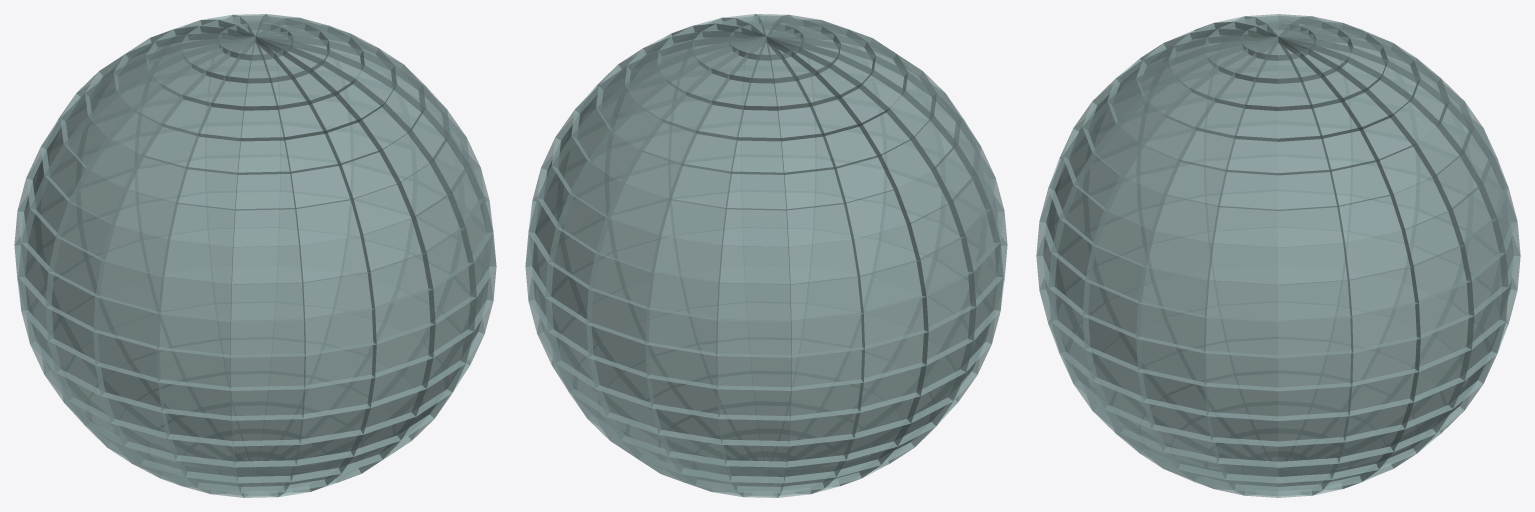
File: Disco Ball.fbx
3 renders of one model, left to right at view 1: azimuth 30°, elevation 25°; view 2: azimuth 150°, elevation 25°; view 3: azimuth 270°, elevation 25°, orthographic.
Parts seen in each view (by area): view 1: pSphere1; view 2: pSphere1; view 3: pSphere1.
Part boxes in pixels (x1,y1,x2,y2): pSphere1: (14, 14, 496, 497); pSphere1: (525, 14, 1007, 497); pSphere1: (1036, 14, 1520, 497).
Bounding box in the file's own units: 3.84 × 3.84 × 3.84.
